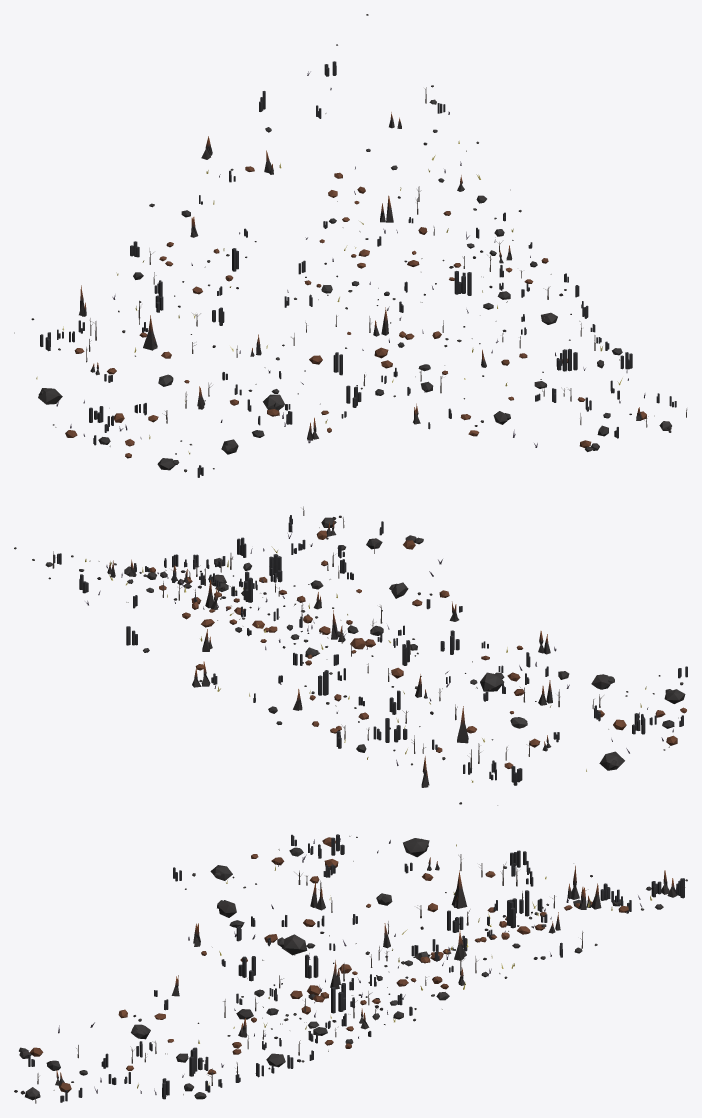
Rendered from ash_land_scatter_c20_29_lod1.glb.
3 views of the same model, one above another, from view 1: azimuth 30°, elevation 25°; view 2: azimuth 150°, elevation 25°; view 3: azimuth 270°, elevation 25° (orthographic). The views are drawn at different scales.
Visible parts, largest first — view 1: ash_land_scatter_c20_29_lod1; view 2: ash_land_scatter_c20_29_lod1; view 3: ash_land_scatter_c20_29_lod1.
Part boxes in pixels (x1=…): ash_land_scatter_c20_29_lod1: x1=14, y1=14, x2=687, y2=477; ash_land_scatter_c20_29_lod1: x1=14, y1=506, x2=687, y2=805; ash_land_scatter_c20_29_lod1: x1=14, y1=834, x2=687, y2=1103.
Size of the model in its own units: 241 by 93.16 by 256.
